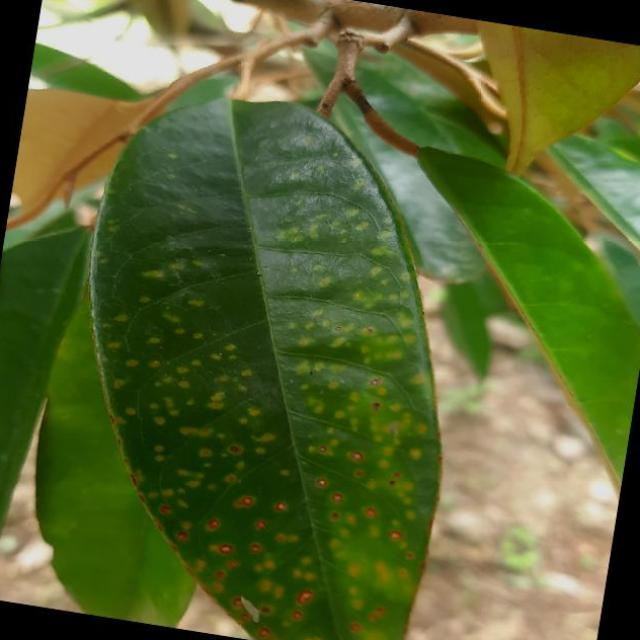Leaf Spot: (20, 44, 513, 640)
